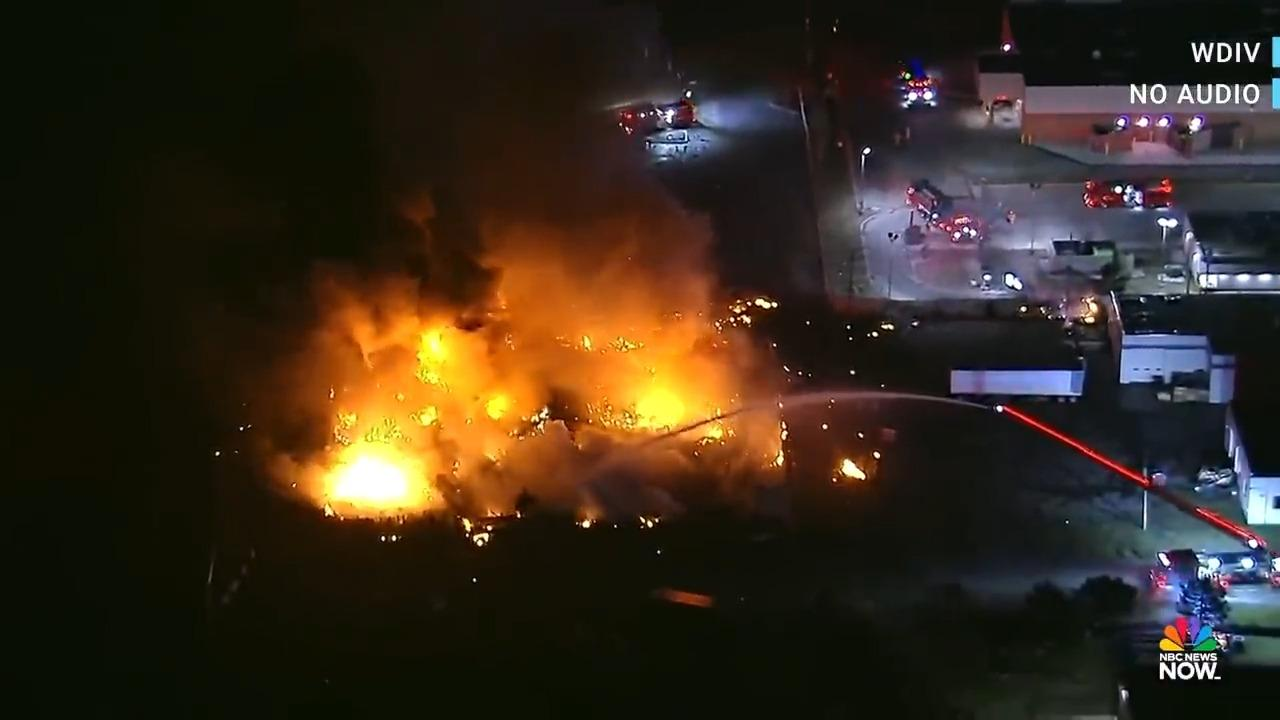fire: (295, 36, 709, 526)
